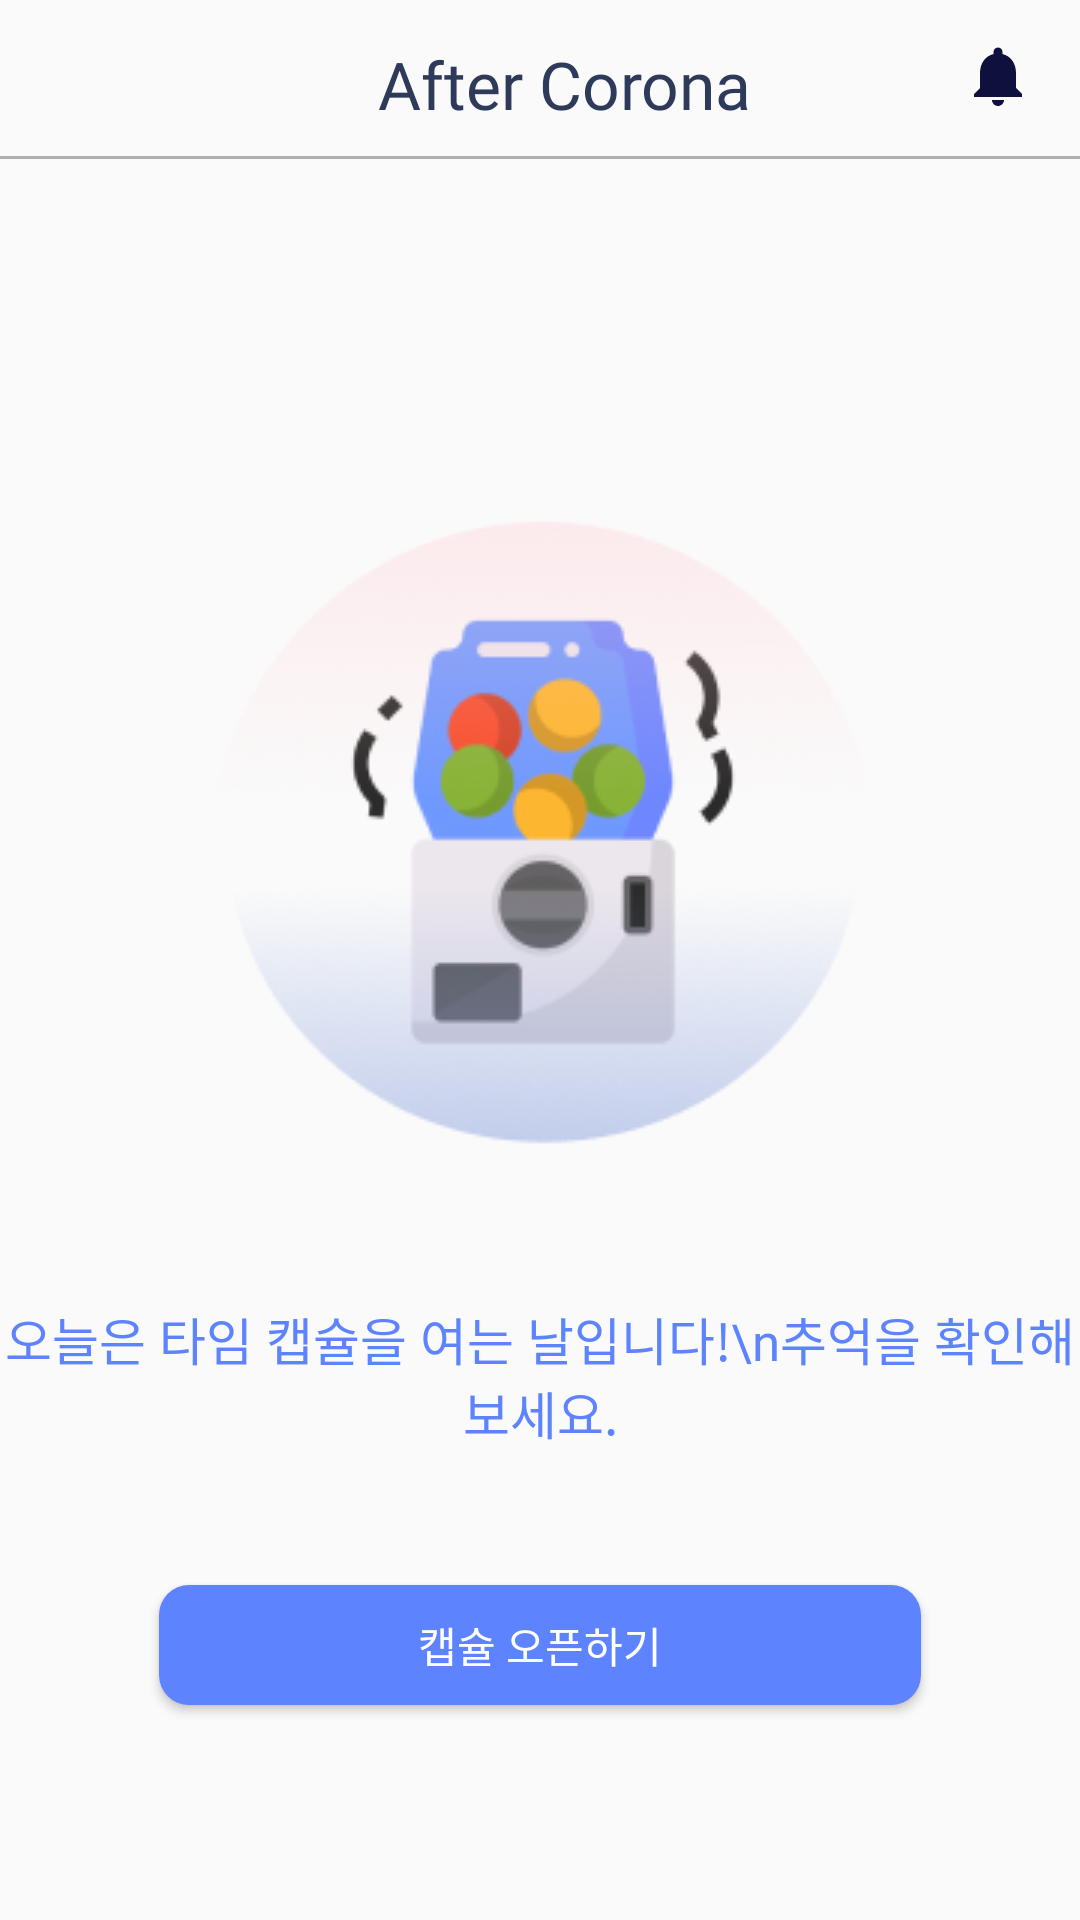

Icons on this 1080 x 1920 Android screen, each with its box as bbox=(x1, y1, x2, y2):
notifications: bbox=(974, 47, 1022, 106)
